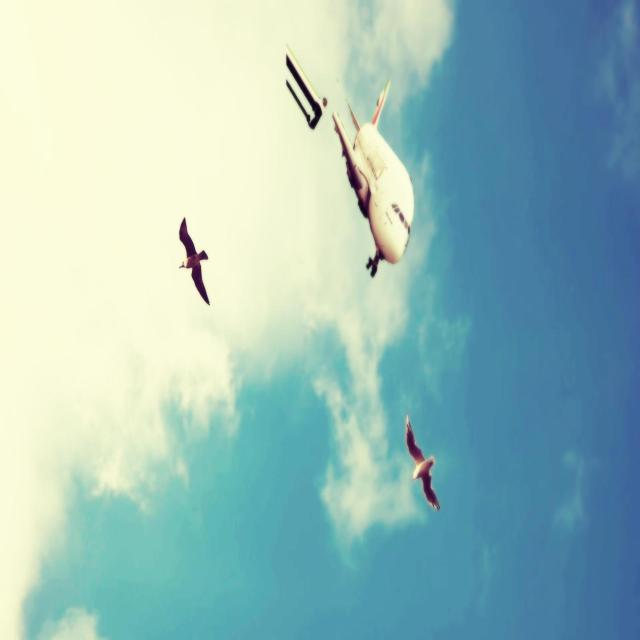airplane: (285, 44, 414, 281)
